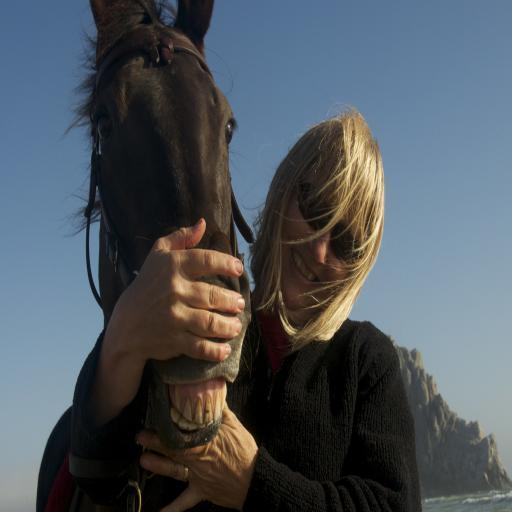horse: (56, 0, 254, 512)
